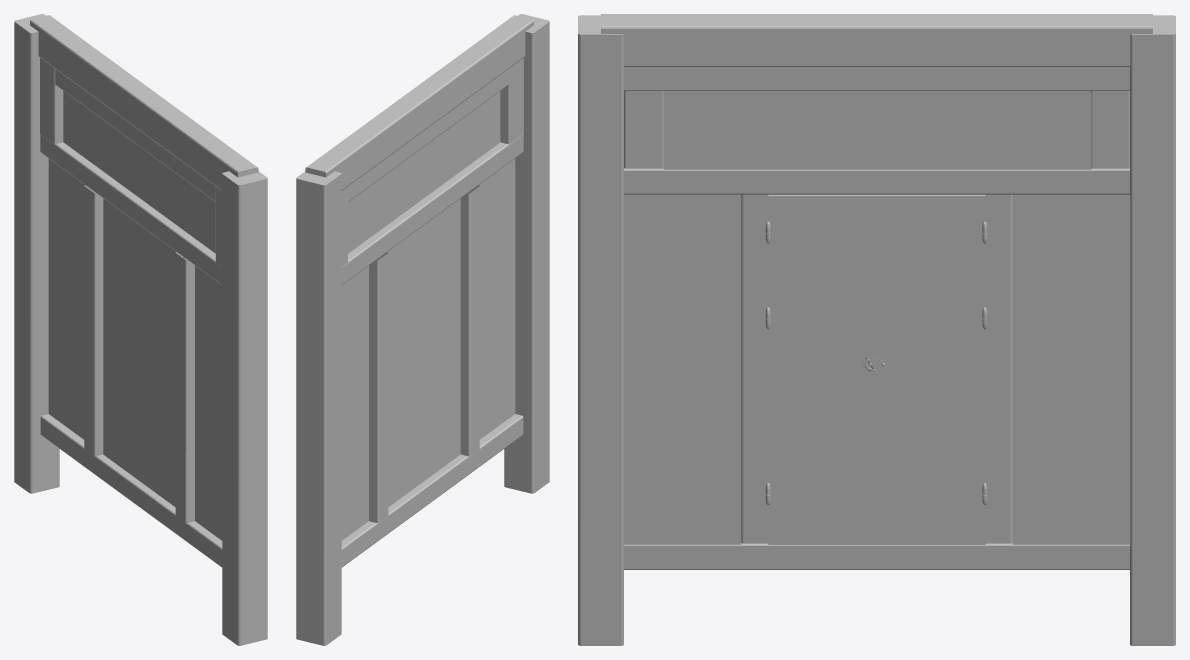
File: SM_Building_Wall_30.FBX
3 renders of one model, left to right at view 1: azimuth 30°, elevation 25°; view 2: azimuth 150°, elevation 25°; view 3: azimuth 270°, elevation 25°, orthographic. The views are drawn at different scales.
Visible parts, largest first — view 1: SM_Building_Wall_30; view 2: SM_Building_Wall_30; view 3: SM_Building_Wall_30.
Part boxes in pixels (x1,y1,x2,y2): SM_Building_Wall_30: (14, 14, 267, 645); SM_Building_Wall_30: (296, 14, 549, 645); SM_Building_Wall_30: (578, 14, 1175, 645).
Size of the model in its own units: 54.11 by 776 by 680.
